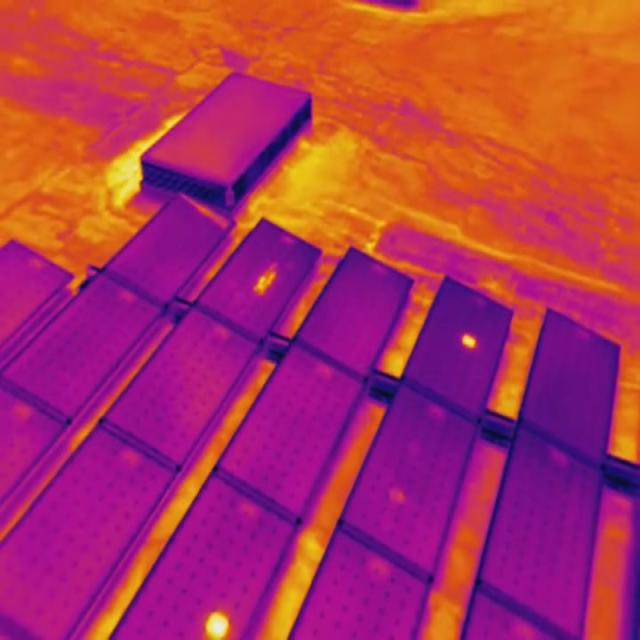Orange-Spots: (202, 612, 231, 640), (254, 264, 277, 298), (389, 490, 403, 508), (462, 334, 474, 350)
